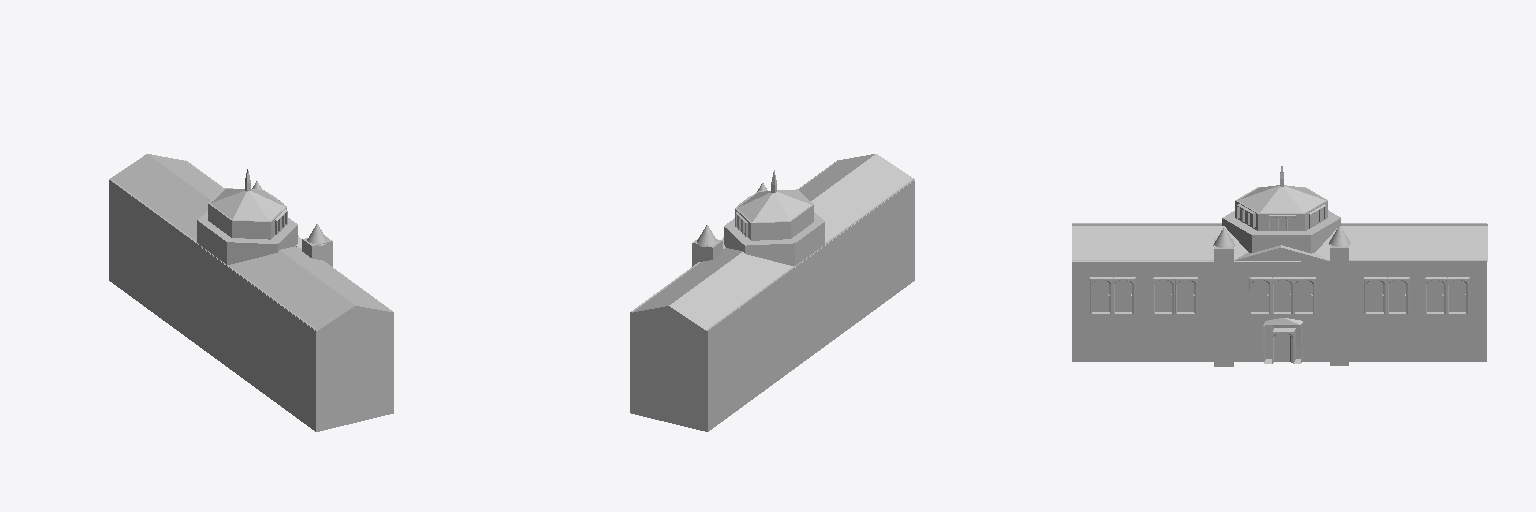
File: powell_library.obj
3 renders of one model, left to right at view 1: azimuth 30°, elevation 25°; view 2: azimuth 150°, elevation 25°; view 3: azimuth 270°, elevation 25°, orthographic.
Visible parts, largest first — view 1: Cube, Cube.002, Cube.001, Cube.005, Cube.006, Circle, Circle.002, Circle.001, Cube.003; view 2: Cube.001, Cube, Cube.002, Cube.006, Cube.005, Circle, Circle.002, Circle.001; view 3: Cube, Cube.001, Cube.002, Cube.005, Cube.006, Cube.003, Circle, Cube.004, Circle.002, Circle.003, Circle.001, Plane.
Boxes of the visible parts, x1,y1,x2,y2 form: Cube: [244, 260, 393, 431]; Cube.002: [175, 228, 248, 382]; Cube.001: [109, 160, 223, 330]; Cube.005: [202, 246, 393, 331]; Cube.006: [110, 154, 222, 241]; Circle: [197, 211, 297, 264]; Circle.002: [210, 189, 284, 220]; Circle.001: [208, 188, 286, 239]; Cube.003: [302, 236, 332, 266]; Cube.001: [630, 262, 773, 431]; Cube: [798, 160, 914, 333]; Cube.002: [773, 228, 846, 382]; Cube.006: [632, 248, 795, 331]; Cube.005: [799, 154, 914, 262]; Circle: [724, 212, 824, 265]; Circle.002: [737, 190, 811, 222]; Circle.001: [735, 189, 813, 240]; Cube: [1072, 223, 1218, 361]; Cube.001: [1346, 223, 1486, 361]; Cube.002: [1208, 223, 1353, 361]; Cube.005: [1072, 224, 1300, 261]; Cube.006: [1315, 224, 1487, 261]; Cube.003: [1214, 239, 1233, 366]; Circle: [1222, 210, 1340, 253]; Cube.004: [1330, 238, 1348, 365]; Circle.002: [1238, 185, 1325, 212]; Circle.003: [1263, 318, 1303, 363]; Circle.001: [1235, 187, 1327, 230]; Plane: [1235, 245, 1327, 260].
Size of the model in its own units: 2.89 by 5.68 by 11.89.